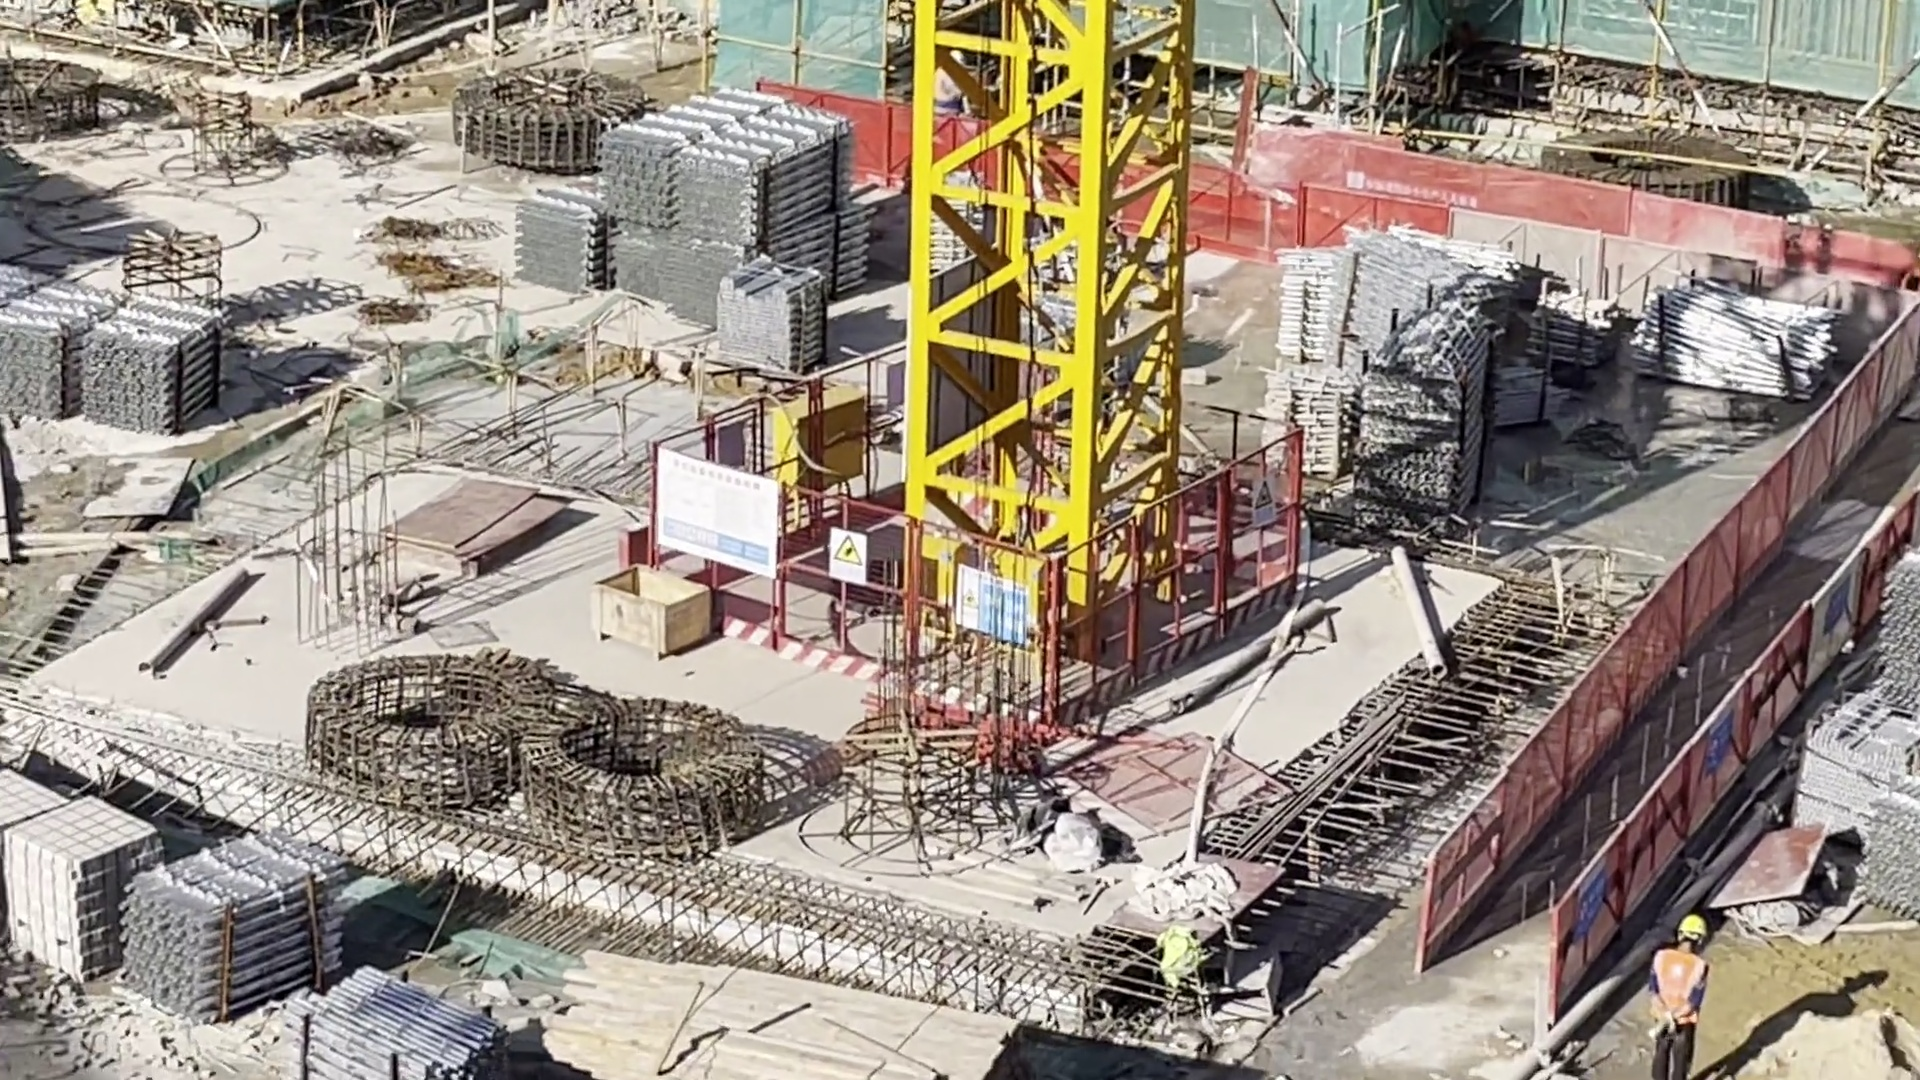board: (394, 483, 551, 573)
brick: (1, 776, 159, 962)
ebox: (778, 392, 861, 495)
fence: (1431, 314, 1920, 1004), (1194, 138, 1913, 314), (793, 85, 909, 180)
helmet: (1679, 914, 1702, 935)
person: (1656, 914, 1703, 1080)
scaffold: (598, 99, 873, 318), (119, 841, 348, 1015), (1279, 226, 1514, 349), (1361, 307, 1482, 511), (304, 968, 511, 1080), (1631, 280, 1825, 392), (81, 306, 227, 427), (5, 281, 105, 418), (719, 262, 828, 376), (1263, 357, 1350, 474), (512, 193, 608, 288), (1866, 772, 1920, 909), (1524, 291, 1619, 369), (1879, 553, 1920, 728)
slogan: (956, 568, 1027, 653), (829, 531, 866, 584), (1579, 868, 1605, 939), (1708, 707, 1732, 777), (1254, 477, 1275, 527)
vest: (1662, 943, 1700, 1034)
wood: (562, 958, 1034, 1080)
